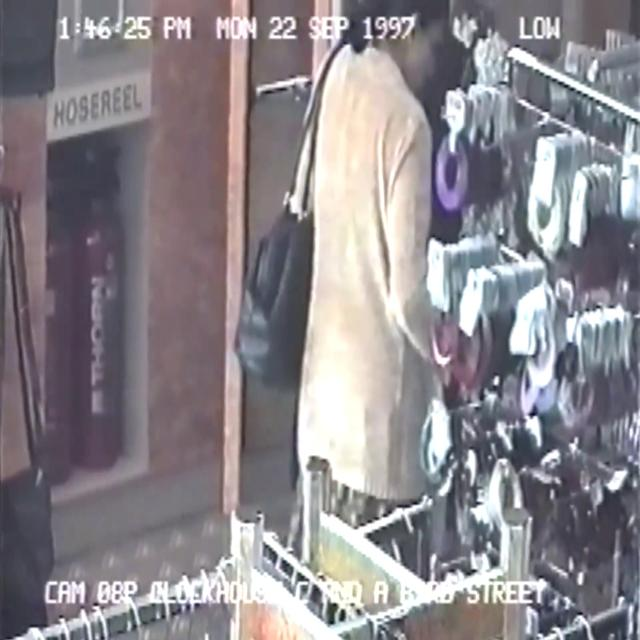normal: (251, 6, 525, 640)
